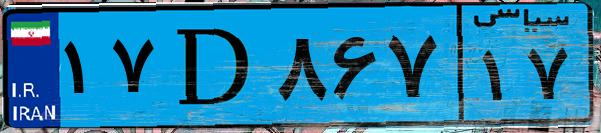1: (57, 26, 110, 100), (475, 38, 525, 113)
6: (330, 28, 385, 110)
7: (385, 28, 445, 110), (525, 38, 570, 115), (110, 28, 158, 98)
8: (270, 28, 330, 110)
D: (158, 12, 270, 120)
